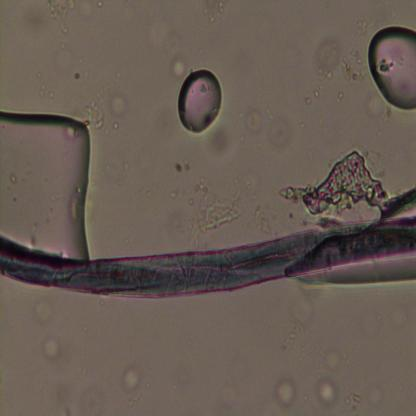Air bubble: (0, 101, 94, 258), (365, 22, 416, 114), (174, 69, 224, 137)
Anthropogenic: (0, 219, 416, 298)
Background material: (275, 141, 390, 226), (191, 178, 242, 231), (282, 301, 313, 355), (58, 380, 106, 414), (315, 34, 340, 74), (340, 47, 364, 88), (48, 1, 74, 35), (314, 374, 340, 408), (316, 342, 346, 369), (210, 128, 235, 157), (339, 385, 365, 412), (85, 96, 105, 129), (276, 378, 296, 409), (164, 30, 184, 61), (42, 335, 62, 364), (32, 300, 54, 326), (110, 91, 128, 120), (308, 84, 330, 105), (122, 367, 142, 390), (168, 56, 186, 81), (244, 110, 262, 134), (206, 2, 228, 20), (175, 160, 190, 174), (122, 159, 133, 173), (168, 188, 179, 200), (81, 322, 89, 334), (97, 1, 104, 10)
